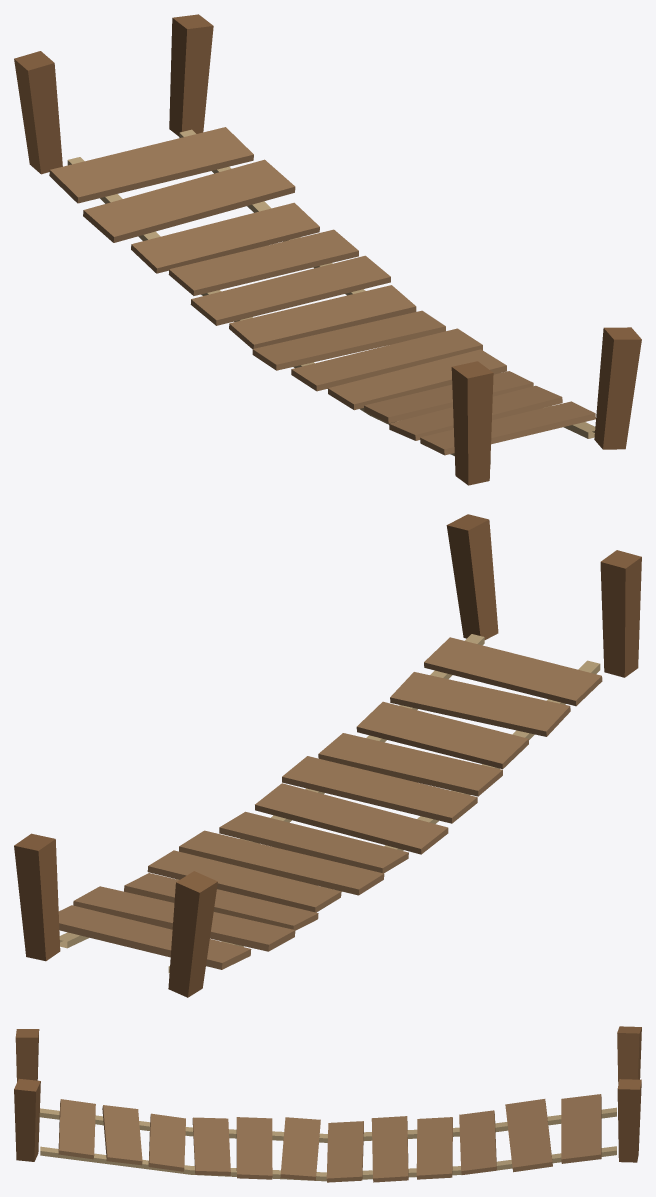
File: Bridge-A01.fbx
The picture shows the model from 3 angles, top to bottom: view 1: azimuth 30°, elevation 25°; view 2: azimuth 150°, elevation 25°; view 3: azimuth 270°, elevation 25°; orthographic projection. The views are drawn at different scales.
Parts seen in each view (by area): view 1: Bridge-A01; view 2: Bridge-A01; view 3: Bridge-A01.
Part boxes in pixels (x1=…): Bridge-A01: x1=14, y1=14, x2=641, y2=485; Bridge-A01: x1=14, y1=514, x2=641, y2=997; Bridge-A01: x1=14, y1=1026, x2=641, y2=1182.
Size of the model in its own units: 297 by 214 by 1196.
